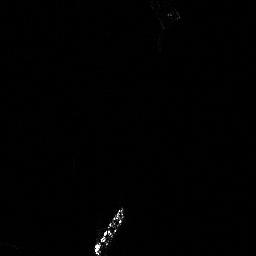ship: (89, 202, 131, 256)
